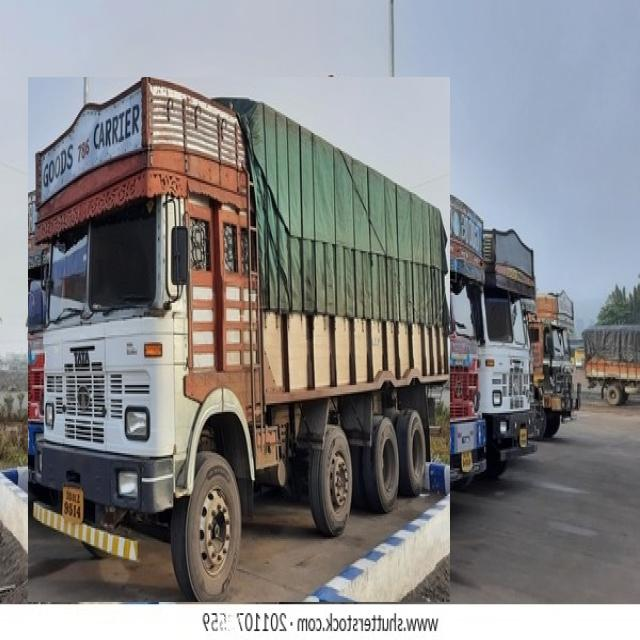truck: (28, 77, 450, 602), (429, 193, 486, 483), (479, 230, 539, 478)
